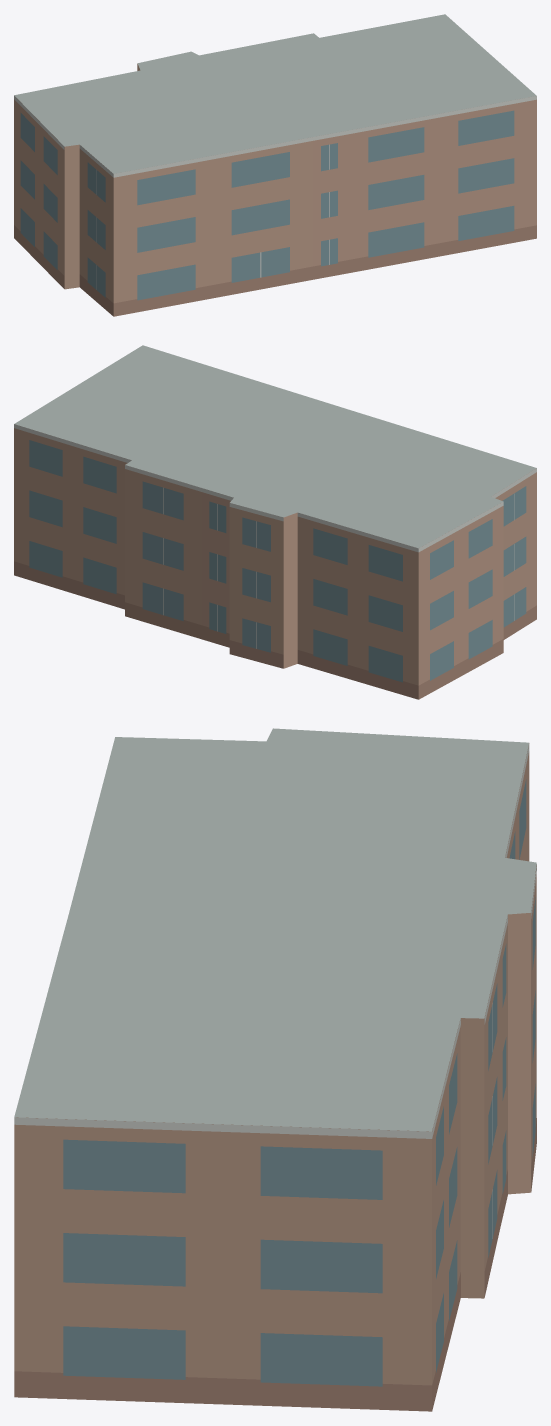
The model's file is survey-upis-32983196.glb.
3 renders of one model, top to bottom at view 1: azimuth 30°, elevation 25°; view 2: azimuth 150°, elevation 25°; view 3: azimuth 270°, elevation 25°, orthographic. The views are drawn at different scales.
Parts seen in each view (by area): view 1: survey-upis-32983196.tmp; view 2: survey-upis-32983196.tmp; view 3: survey-upis-32983196.tmp.
Part boxes in pixels (x1,y1,x2,y2): survey-upis-32983196.tmp: (14, 14, 536, 316); survey-upis-32983196.tmp: (14, 345, 536, 699); survey-upis-32983196.tmp: (14, 728, 536, 1411).
Bounding box in the file's own units: 28.27 × 9.15 × 15.49.
